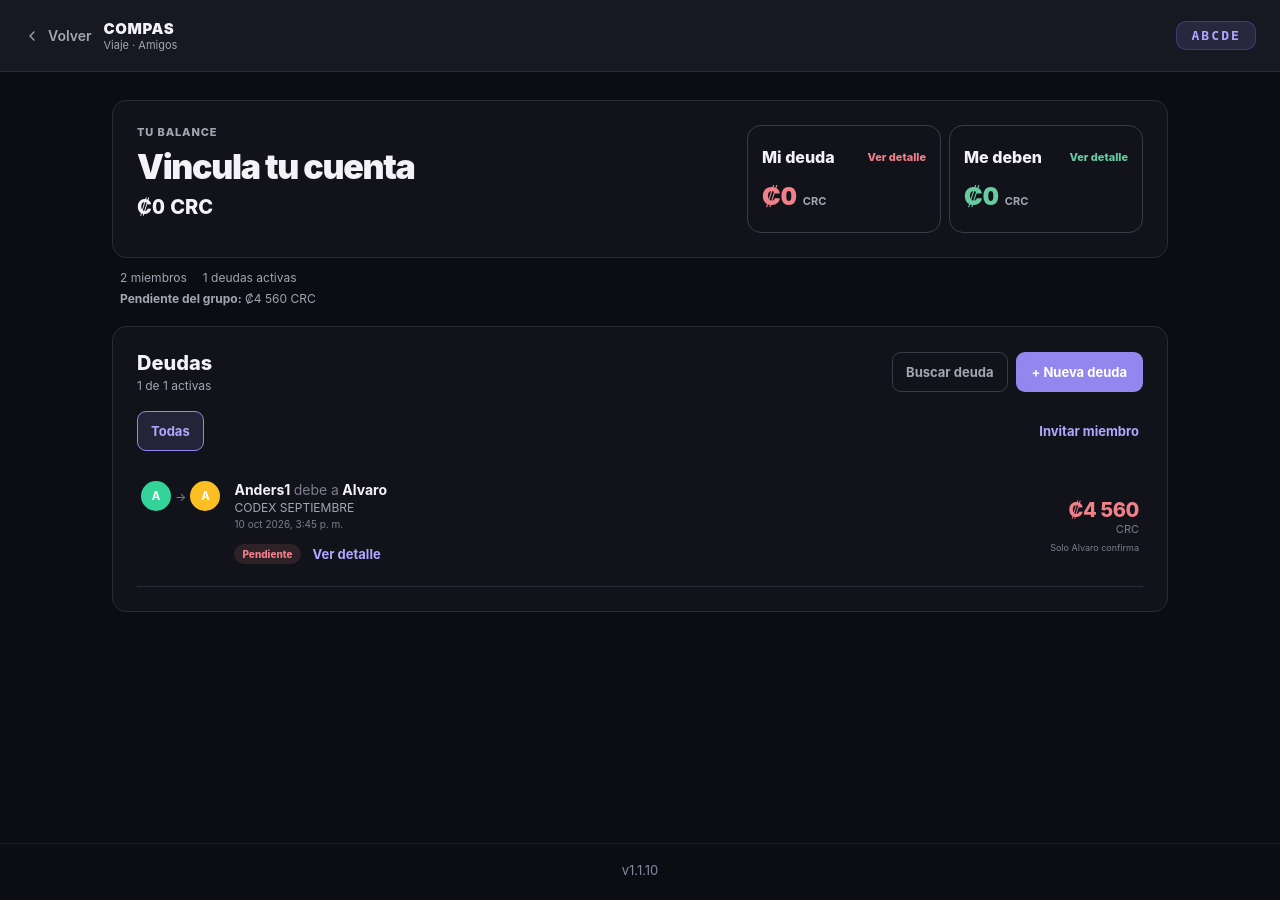
Scenario: GroupPage debt cards › reveals debt details from each compact row
This screenshot has width=1280, height=900.
Click the button with aria-label "Ver detalle de CODEX SEPTIEMBRE": [347, 554] box x1=308 y1=538 x2=385 y2=570
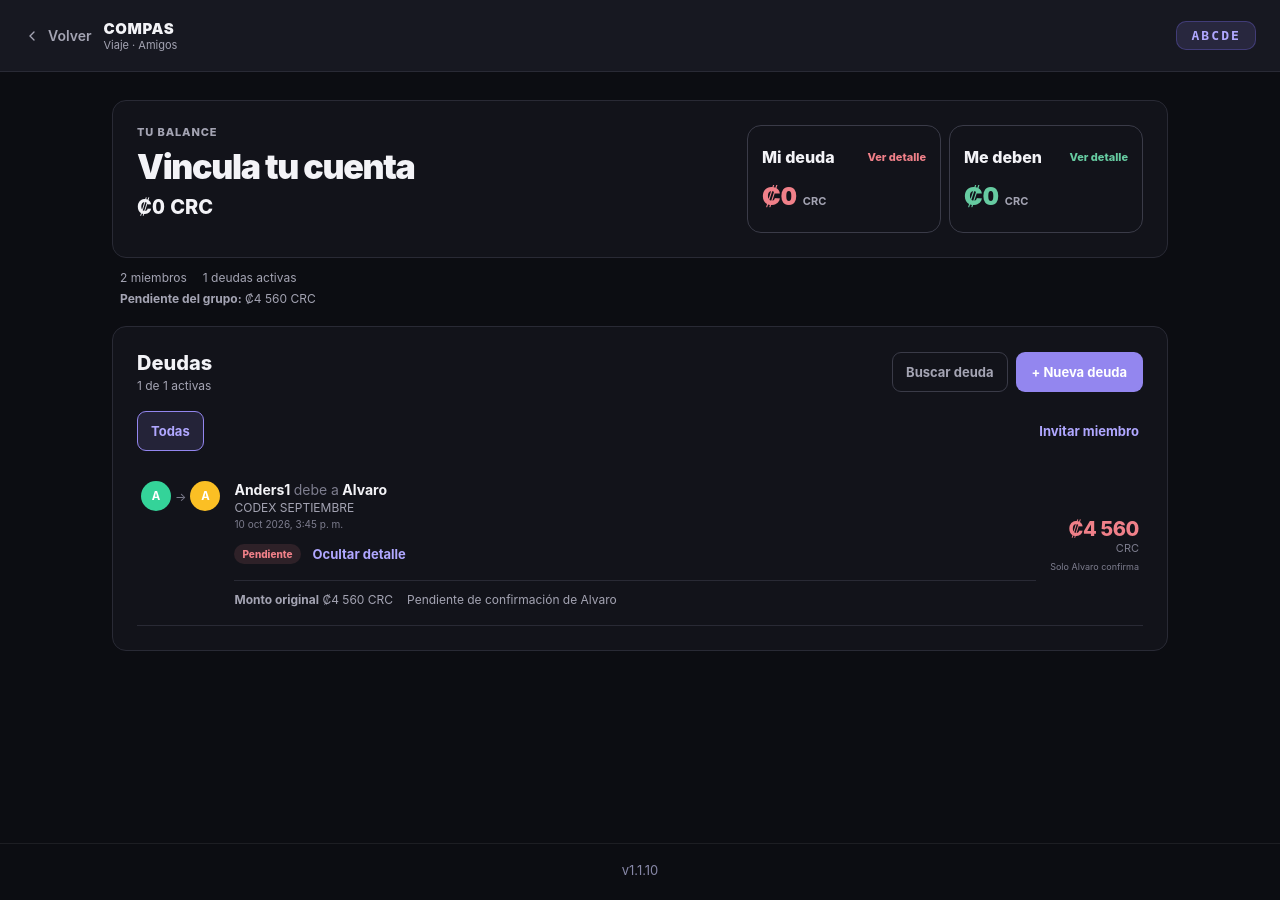
Expected: the button with aria-label "Ver detalle de CODEX SEPTIEMBRE" is expanded, x1=308 y1=538 x2=410 y2=570
Expected: the text "Monto original" is shown, x1=234 y1=592 x2=319 y2=607
Expected: the text "Pendiente de confirmación de Alvaro" is shown, x1=407 y1=591 x2=617 y2=609
